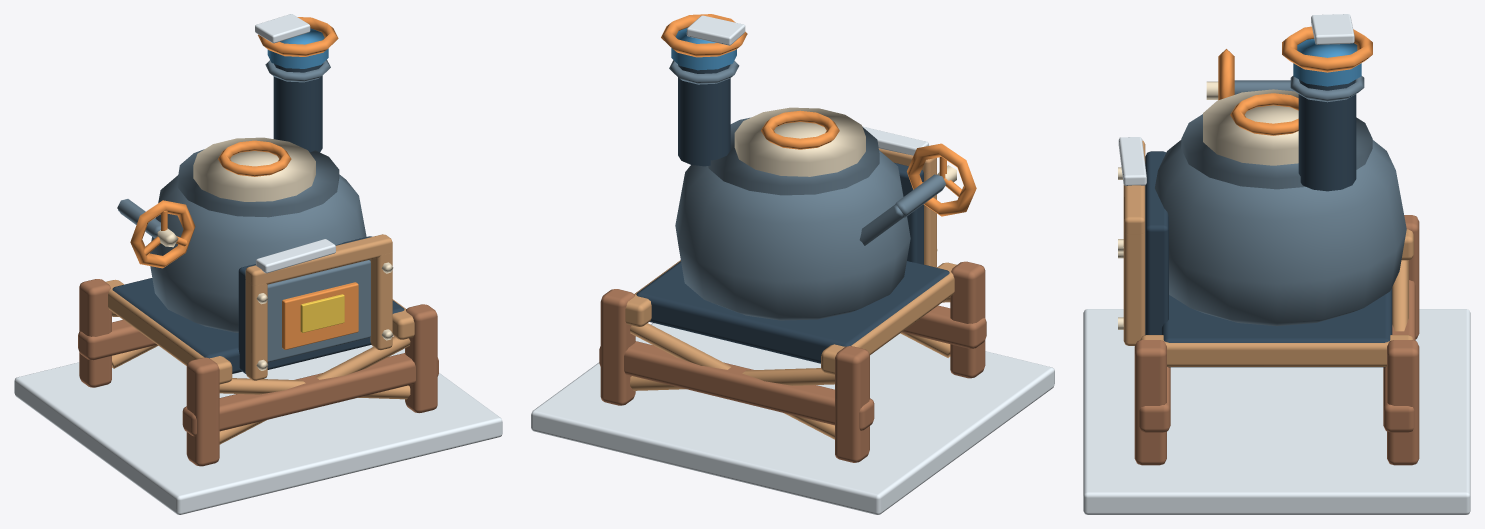
The model's file is cooker_processor.glb.
3 views of the same model, side by side, from view 1: azimuth 30°, elevation 25°; view 2: azimuth 150°, elevation 25°; view 3: azimuth 270°, elevation 25° (orthographic). The views are drawn at different scales.
Parts seen in each view (by area): view 1: cooker_processor; view 2: cooker_processor; view 3: cooker_processor.
Boxes of the visible parts, bbox=[...] form: cooker_processor: bbox=[14, 14, 502, 514]; cooker_processor: bbox=[531, 14, 1054, 514]; cooker_processor: bbox=[1083, 14, 1470, 514].
Bounding box in the file's own units: 2.45 × 2.61 × 2.15.
